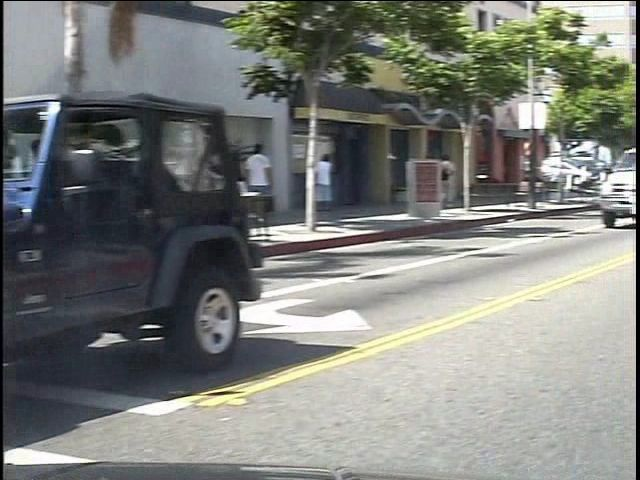person: (260, 141, 296, 235), (328, 142, 352, 225), (456, 153, 474, 213)
